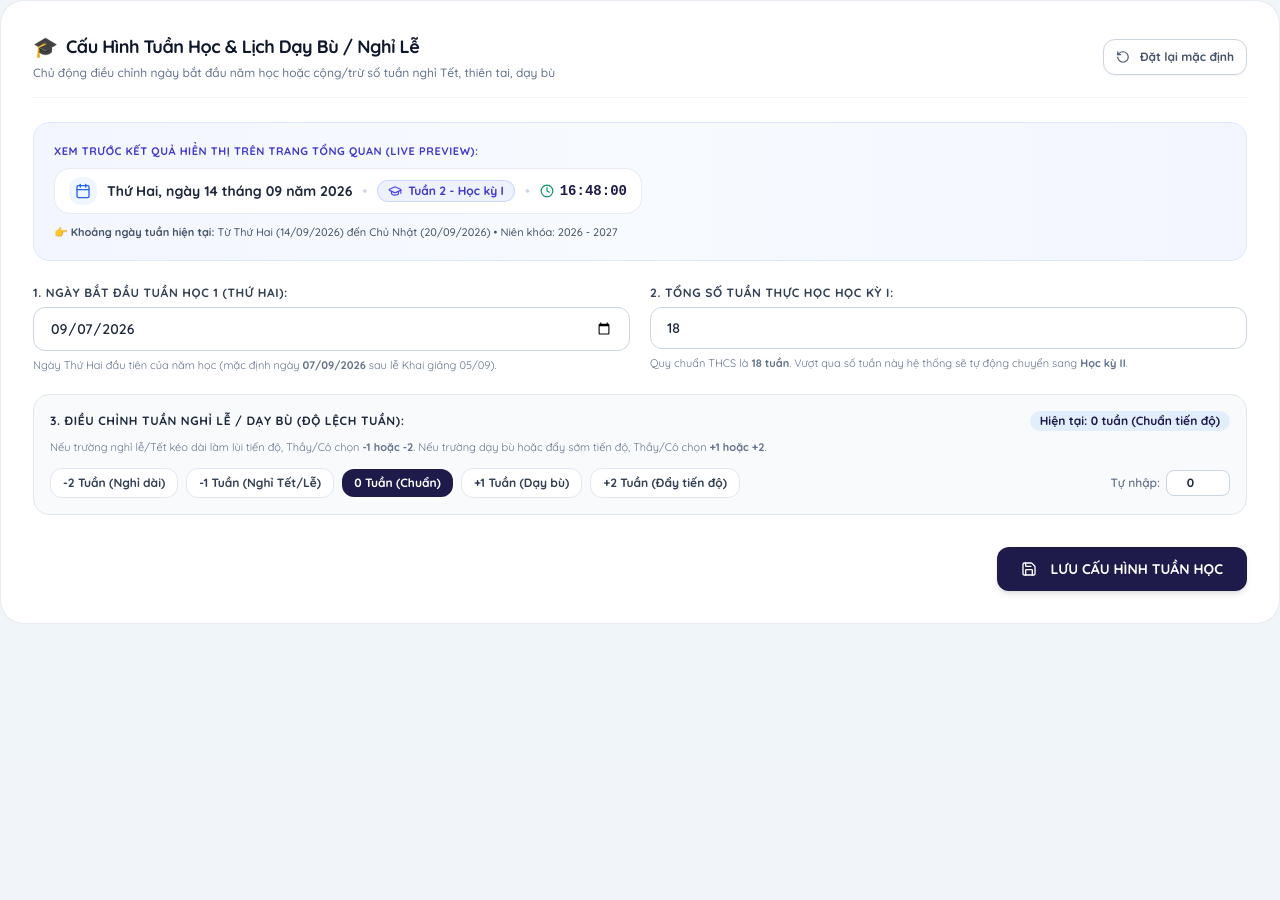
Scenario: AcademicWeekConfigSection Component › cho phép bấm nút chọn nhanh điều chỉnh tuần bù/nghỉ lễ và cập nhật ngay xem trước
This screenshot has width=1280, height=900.
# Bấm nút "+1 Tuần (Dạy bù)"
Step 1. Click the button "+1 Tuần (Dạy bù)" → coordinates (522, 483), box [461,468,582,498]
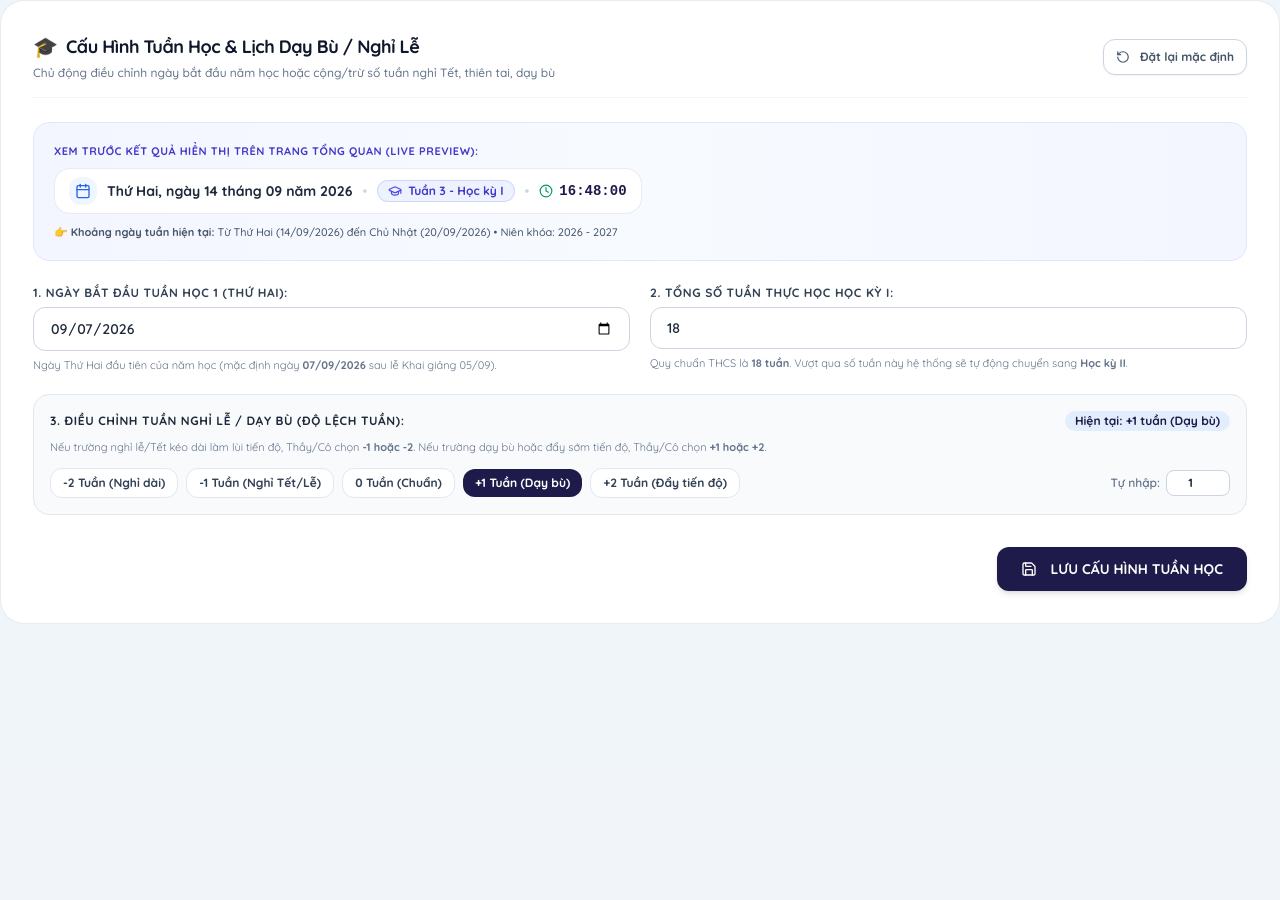
expect the text "Tuần 3 - Học kỳ I" is shown: met, box [408,182,504,198]
